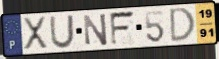5: (143, 9, 166, 44)
D: (169, 6, 197, 44)
F: (109, 10, 137, 48)
N: (82, 12, 109, 47)
U: (49, 14, 76, 50)
X: (22, 16, 50, 51)
